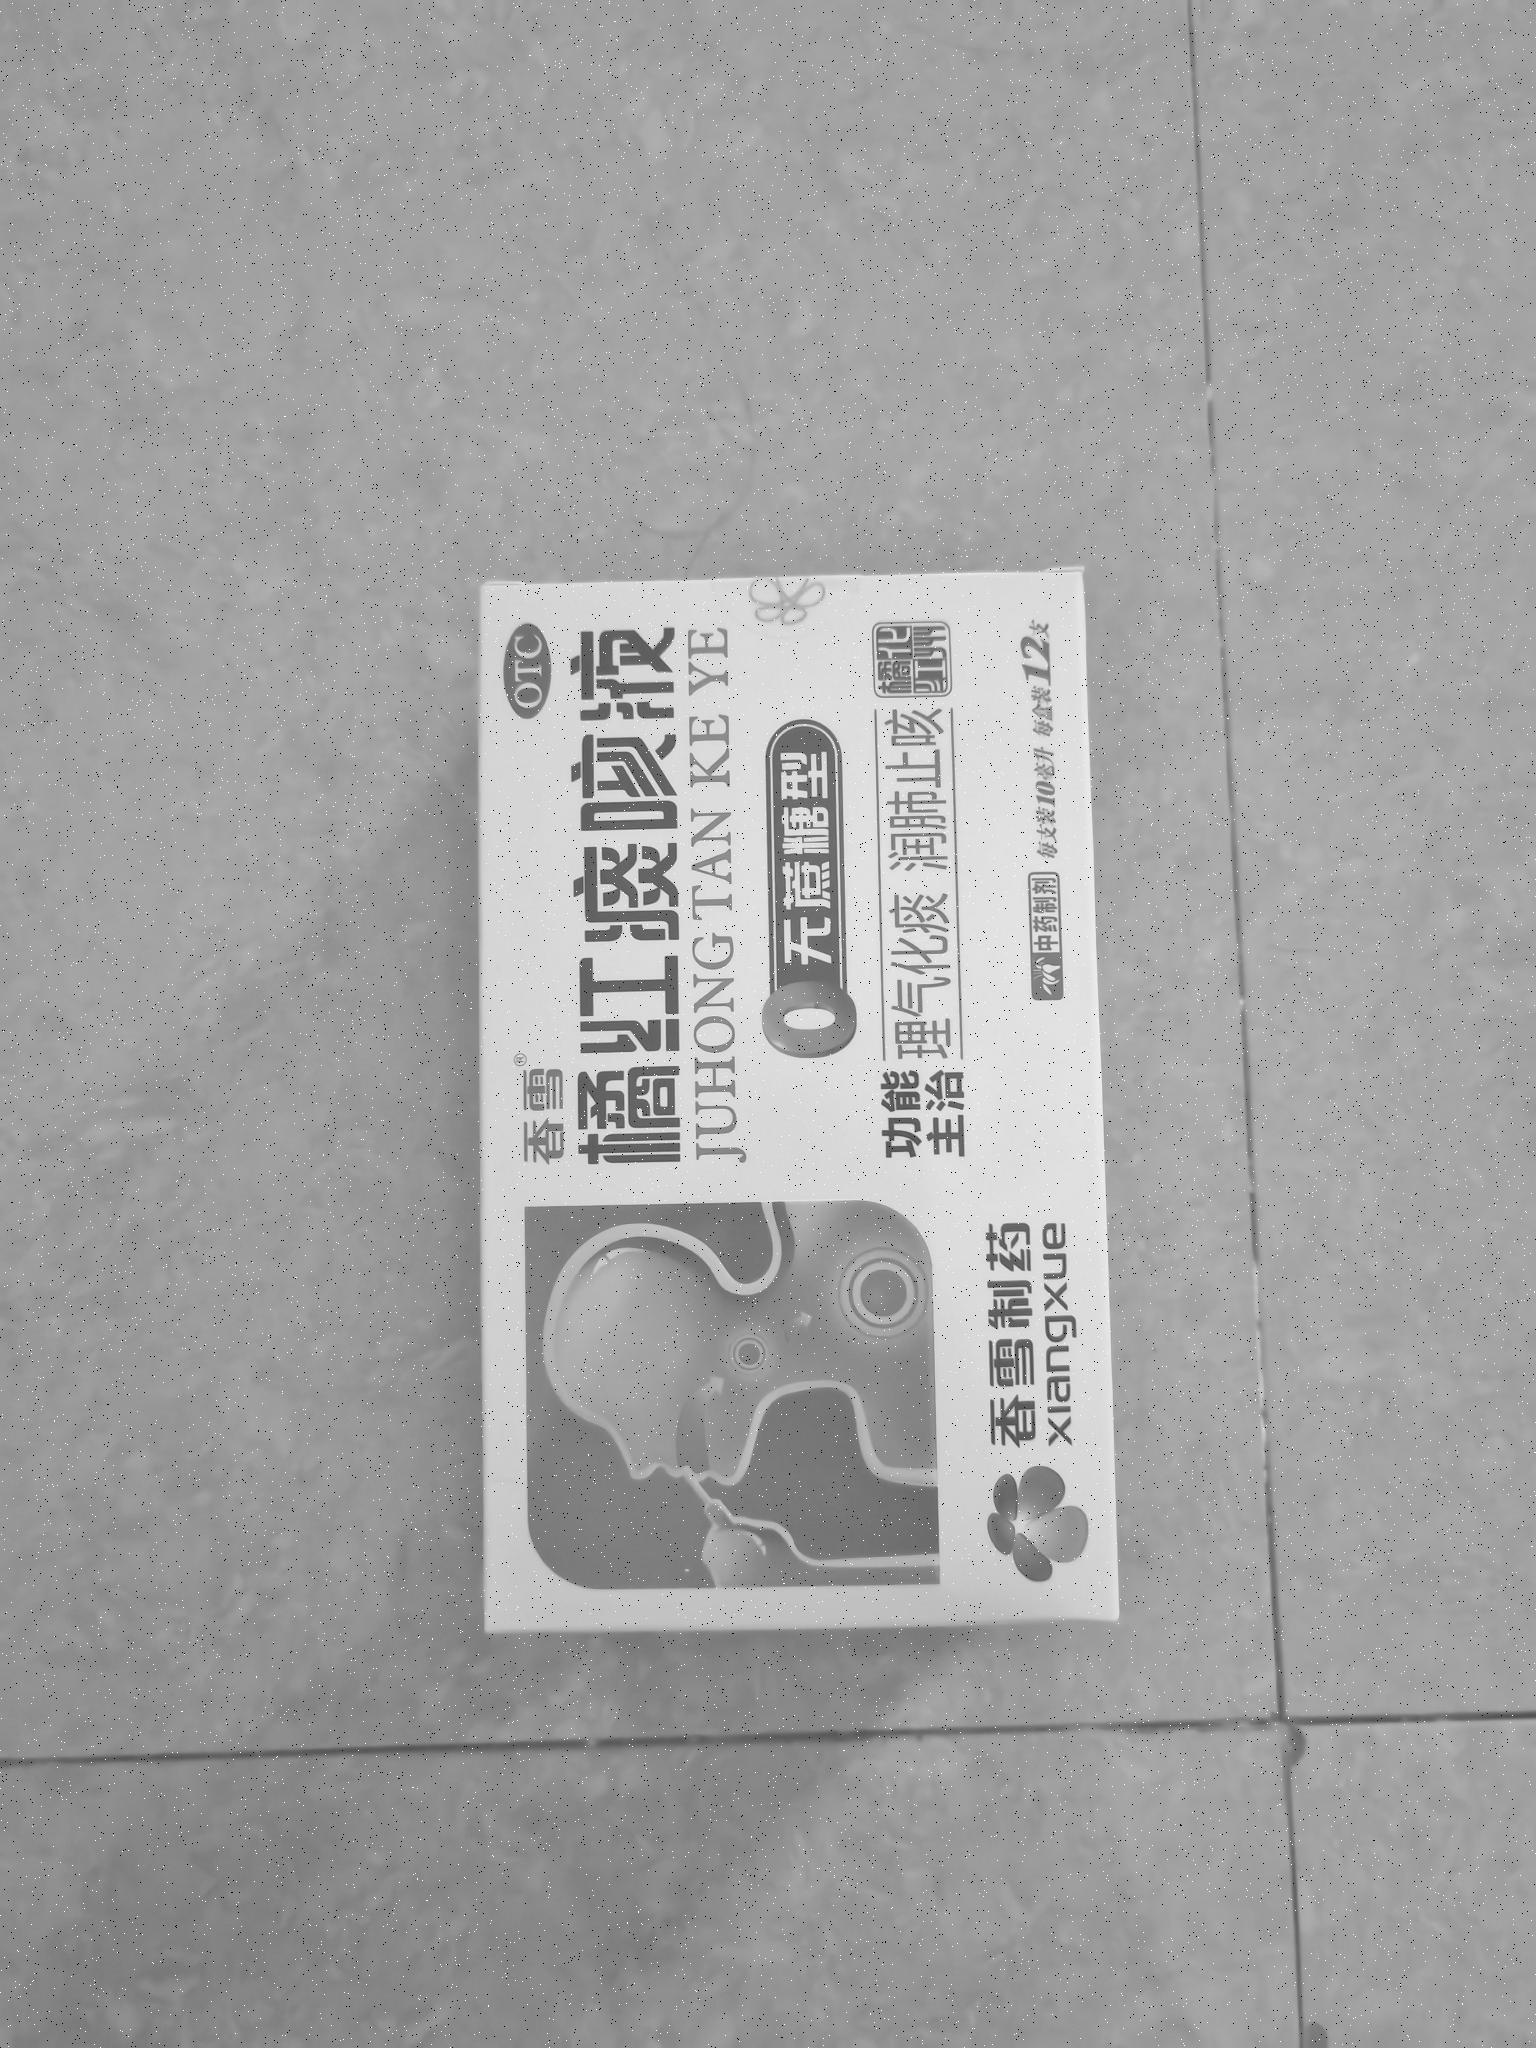Medicine1: (432, 550, 1160, 1667)
